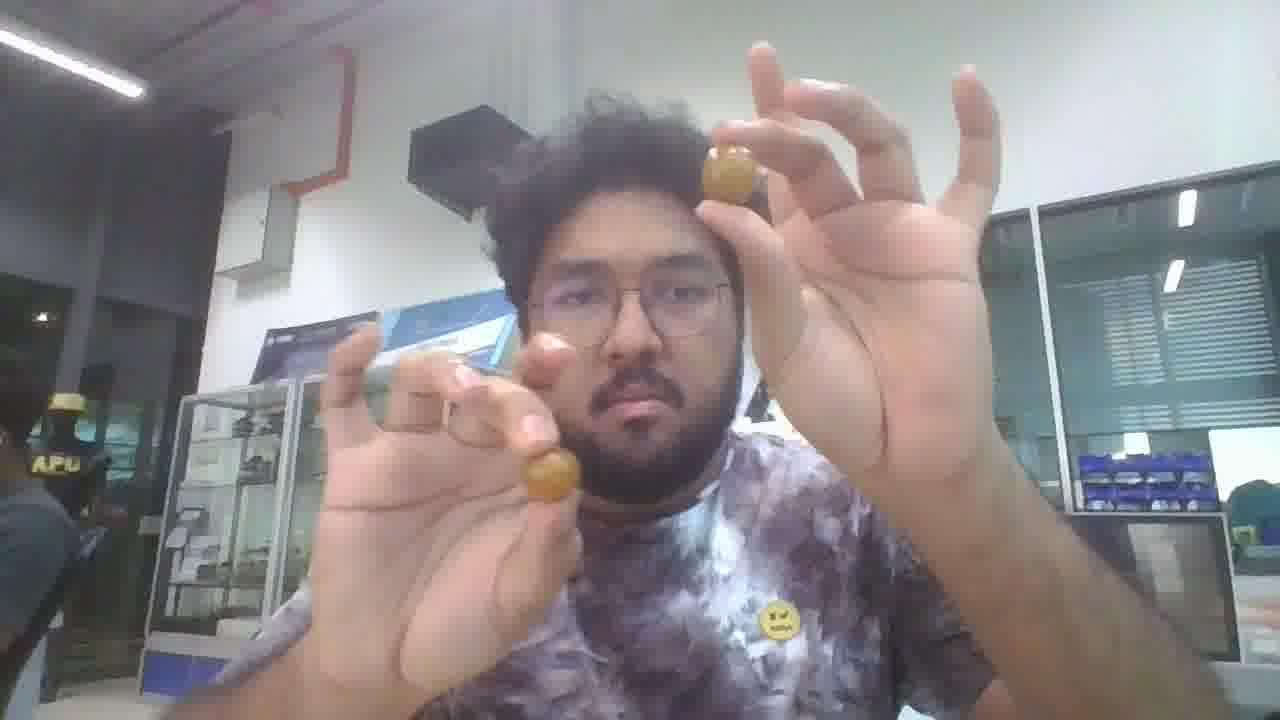yellow_cherry_tomato: (702, 145, 757, 205), (524, 448, 580, 500)
